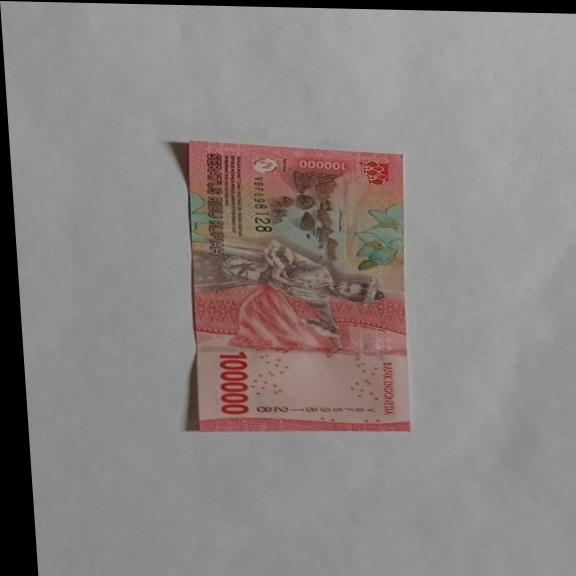Kertas: (168, 139, 421, 436), (214, 350, 252, 415)
